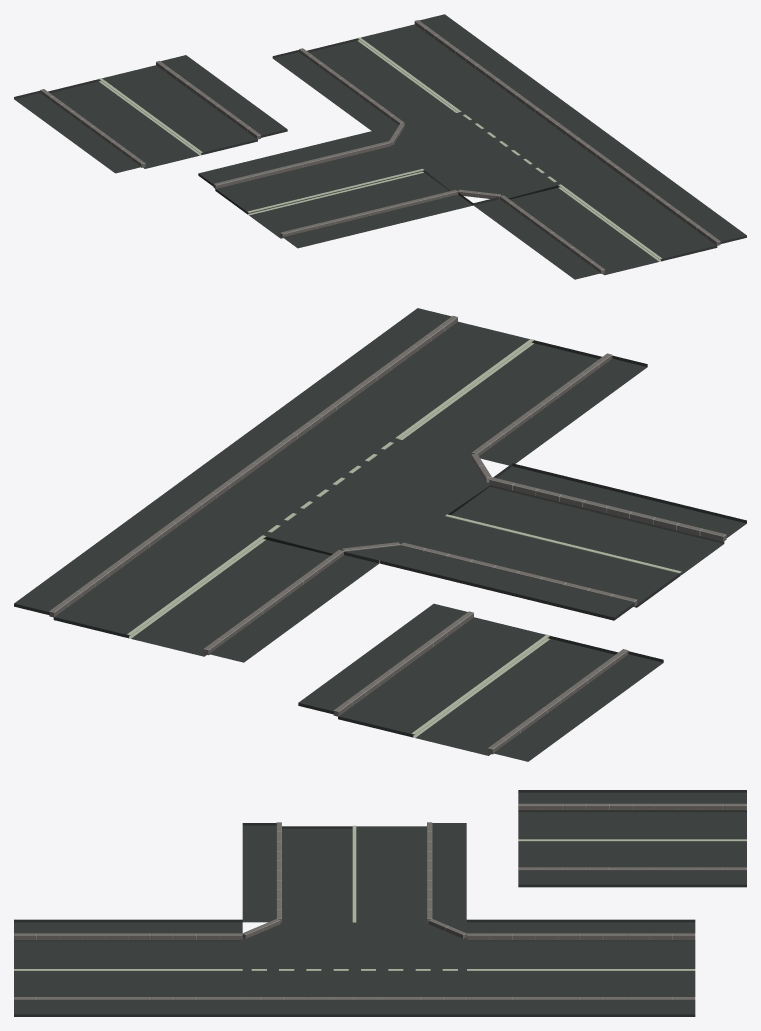
The model's file is roads.fbx.
The picture shows the model from 3 angles, top to bottom: view 1: azimuth 30°, elevation 25°; view 2: azimuth 150°, elevation 25°; view 3: azimuth 270°, elevation 25°; orthographic projection. The views are drawn at different scales.
Visible parts, largest first — view 1: Куб.002, Куб; view 2: Куб.002, Куб; view 3: Куб.002, Куб.
Part boxes in pixels (x1,y1,x2,y2): Куб.002: [198, 14, 746, 279]; Куб: [14, 55, 287, 173]; Куб.002: [14, 308, 746, 662]; Куб: [298, 603, 663, 761]; Куб.002: [14, 822, 695, 1016]; Куб: [518, 790, 746, 887].
Size of the model in its own units: 2791 by 38.81 by 3853.
